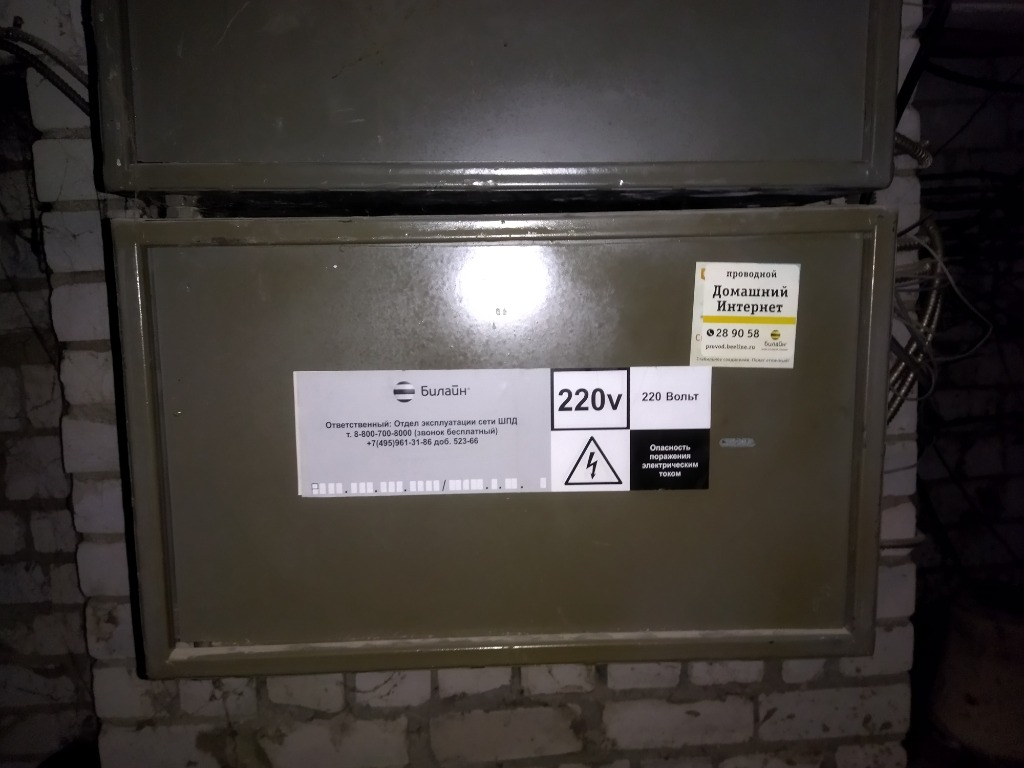e2-6u: (91, 200, 905, 690)
